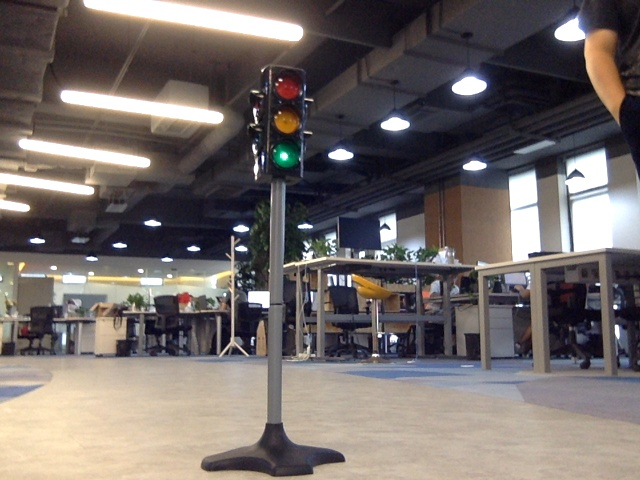green: (266, 68, 301, 173)
